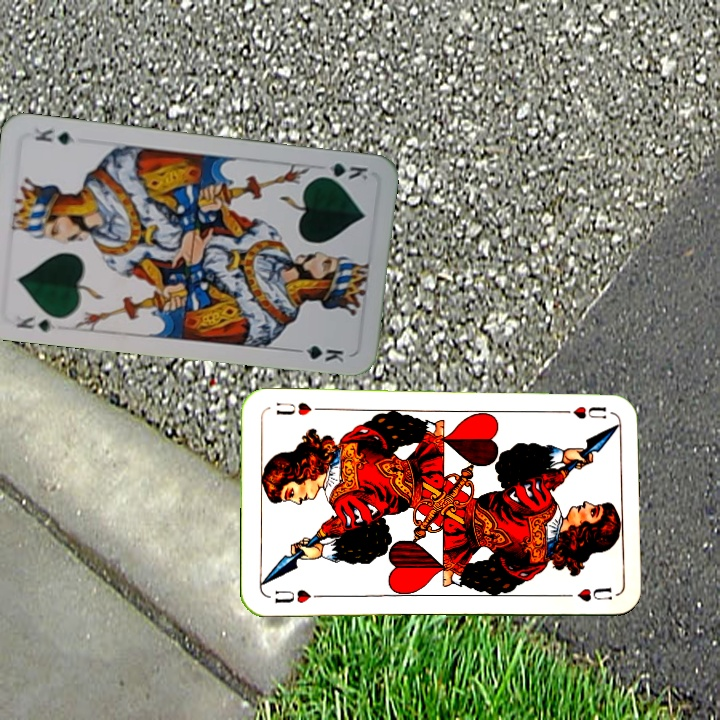GK: (313, 159, 370, 185), (11, 312, 60, 335)
HU: (270, 585, 324, 606), (569, 402, 609, 422)
